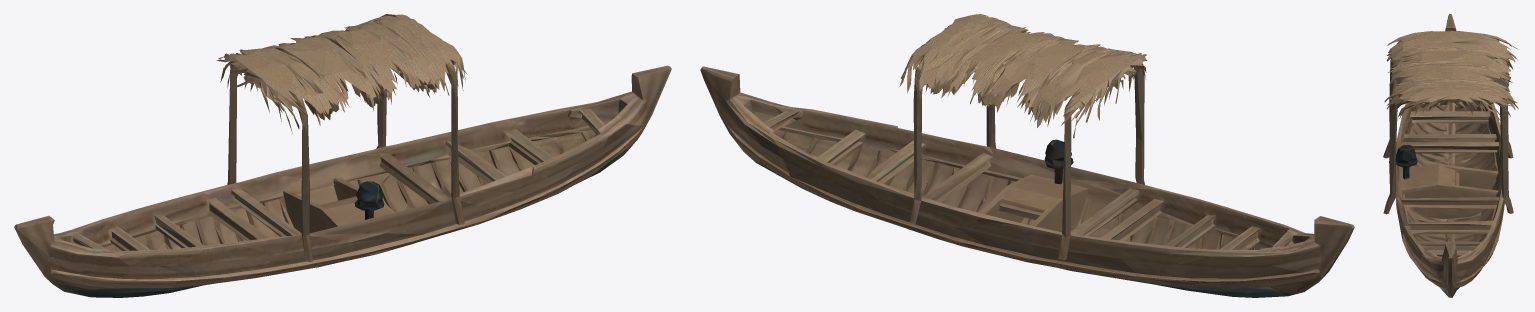
File: scene_longboat.glb
The picture shows the model from 3 angles, left to right: view 1: azimuth 30°, elevation 25°; view 2: azimuth 150°, elevation 25°; view 3: azimuth 270°, elevation 25°; orthographic projection. The views are drawn at different scales.
Size of the model in its own units: 1.9 by 0.5562 by 0.4556.
Materials: 1 (1 with a texture image).
